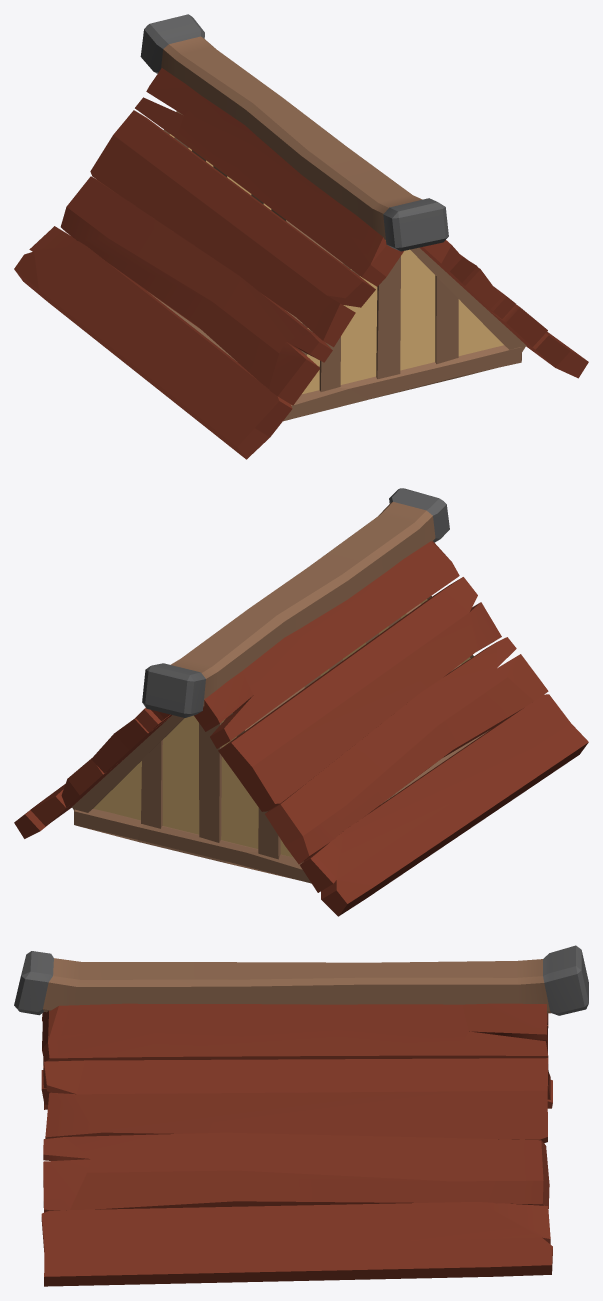
The model's file is House_Roof_G.fbx.
The picture shows the model from 3 angles, top to bottom: view 1: azimuth 30°, elevation 25°; view 2: azimuth 150°, elevation 25°; view 3: azimuth 270°, elevation 25°; orthographic projection. The views are drawn at different scales.
Parts seen in each view (by area): view 1: House_Roof_G; view 2: House_Roof_G; view 3: House_Roof_G.
Boxes of the visible parts, bbox=[...] form: House_Roof_G: bbox=[14, 14, 588, 459]; House_Roof_G: bbox=[14, 488, 588, 916]; House_Roof_G: bbox=[14, 945, 588, 1286].
Size of the model in its own units: 475 by 287 by 616.
